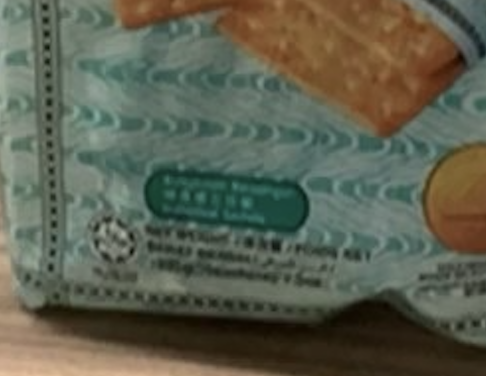halal: (97, 220, 136, 255)
